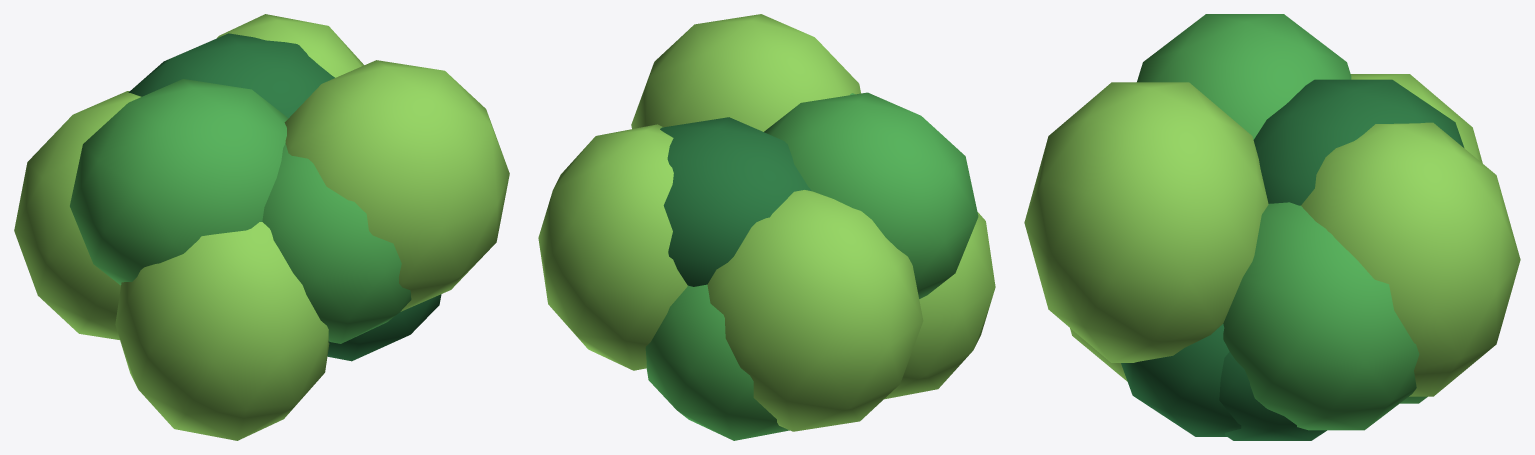
Rendered from LakesideBushModule.fbx.
The picture shows the model from 3 angles, left to right: view 1: azimuth 30°, elevation 25°; view 2: azimuth 150°, elevation 25°; view 3: azimuth 270°, elevation 25°; orthographic projection. The views are drawn at different scales.
Parts seen in each view (by area): view 1: LakesideBushModule; view 2: LakesideBushModule; view 3: LakesideBushModule.
Boxes of the visible parts, x1=… form: LakesideBushModule: x1=14, y1=14, x2=509, y2=440; LakesideBushModule: x1=538, y1=14, x2=995, y2=440; LakesideBushModule: x1=1024, y1=14, x2=1520, y2=440.
Bounding box in the file's own units: 1.32 × 1.13 × 1.34.
